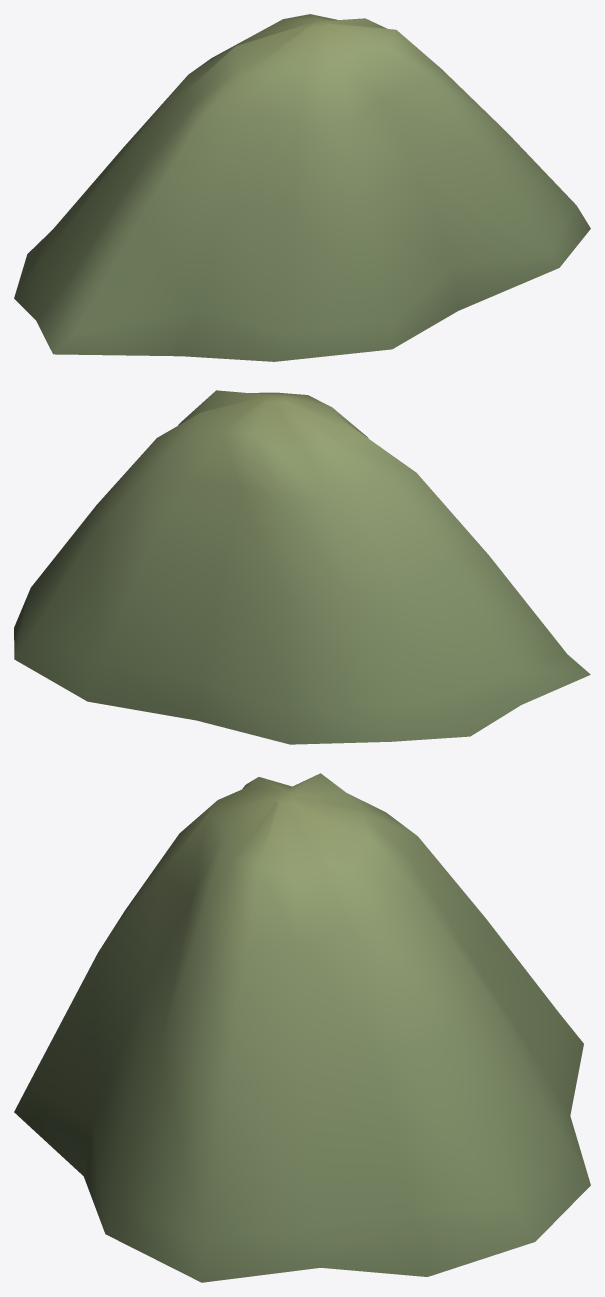
File: valley_ridge_25.glb
3 views of the same model, one above another, from view 1: azimuth 30°, elevation 25°; view 2: azimuth 150°, elevation 25°; view 3: azimuth 270°, elevation 25° (orthographic). The views are drawn at different scales.
Visible parts, largest first — view 1: Ridge25; view 2: Ridge25; view 3: Ridge25.
Boxes of the visible parts, <box> form: Ridge25: <box>14,14,590,361</box>; Ridge25: <box>14,390,590,744</box>; Ridge25: <box>14,773,590,1282</box>.
Bounding box in the file's own units: 13.05 × 5.79 × 8.98.
